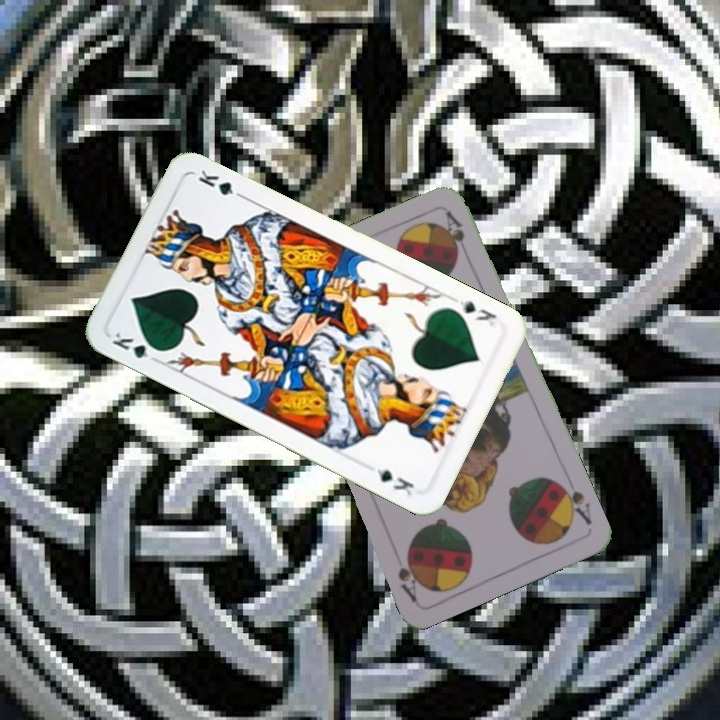GK: (108, 328, 165, 365), (450, 294, 499, 329)
SA: (553, 478, 594, 528)
